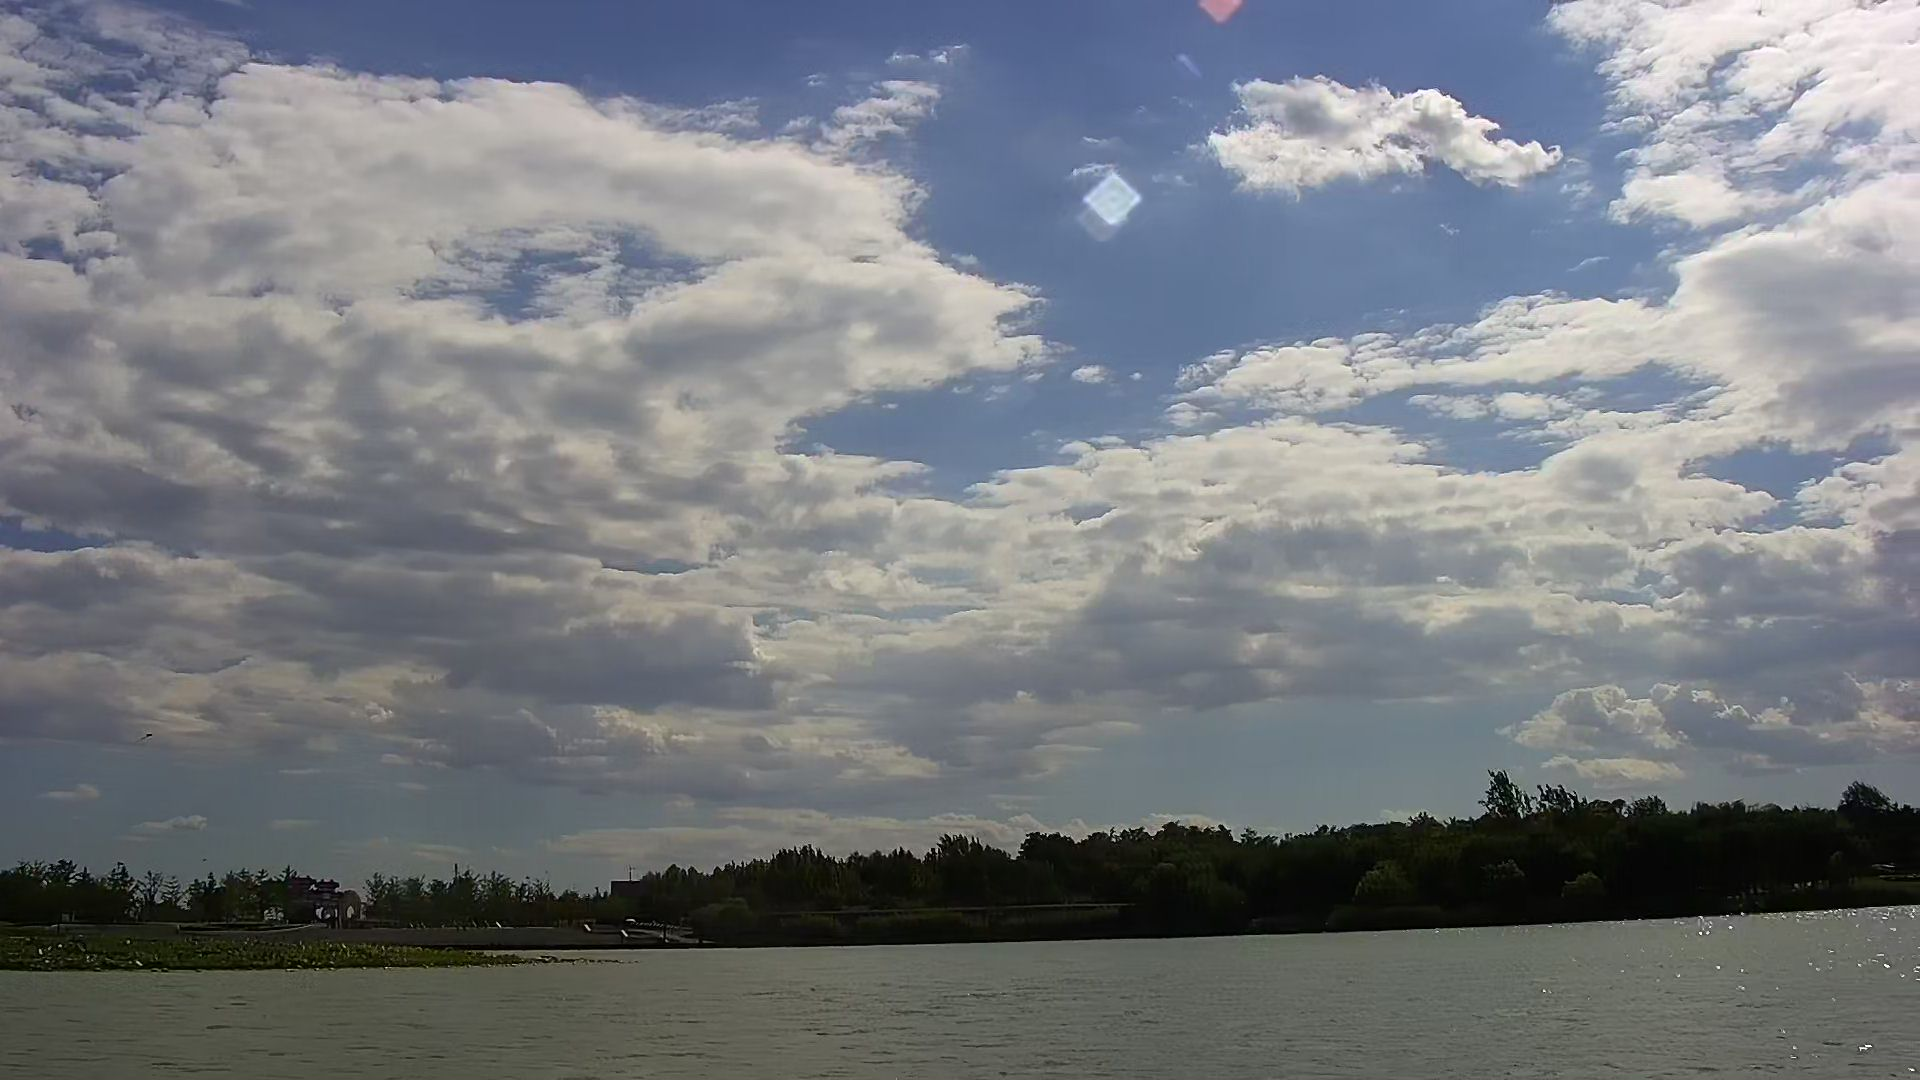harbor: (415, 920, 705, 956)
